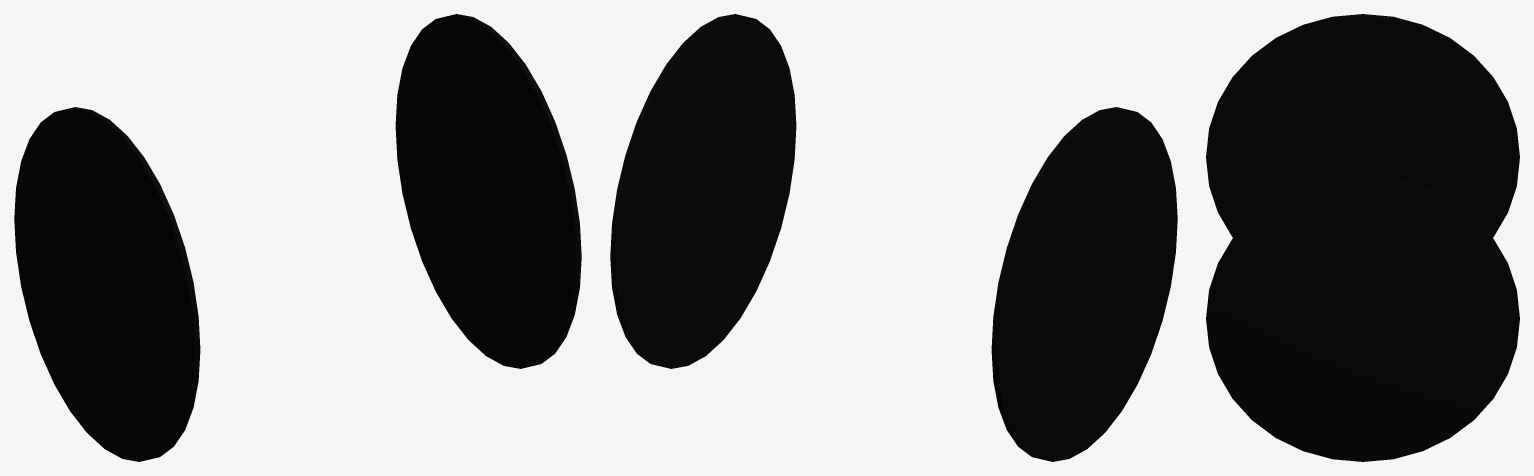
The model's file is 1000_phy_border.fbx.
3 views of the same model, side by side, from view 1: azimuth 30°, elevation 25°; view 2: azimuth 150°, elevation 25°; view 3: azimuth 270°, elevation 25° (orthographic). The views are drawn at different scales.
Parts seen in each view (by area): view 1: Cylinder.001; view 2: Cylinder.001; view 3: Cylinder.001.
Boxes of the visible parts, <box> form: Cylinder.001: <box>14,14,581,461</box>; Cylinder.001: <box>610,14,1177,461</box>; Cylinder.001: <box>1206,14,1519,461</box>.
Bounding box in the file's own units: 162 × 120 × 120.
